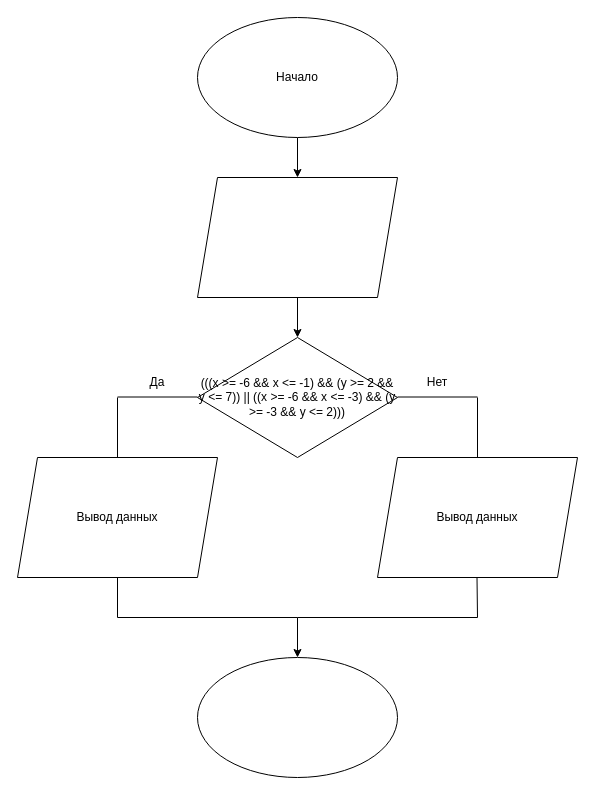
Some shapes in this 595 by 795 pixel diagram are drawn without their labels. Each missing label, with the centre of its shape:
"Ввод x и y" belongs at pixel 297 237.
"Конец" belongs at pixel 297 717.
